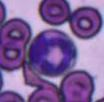N: (29, 28, 78, 78)
